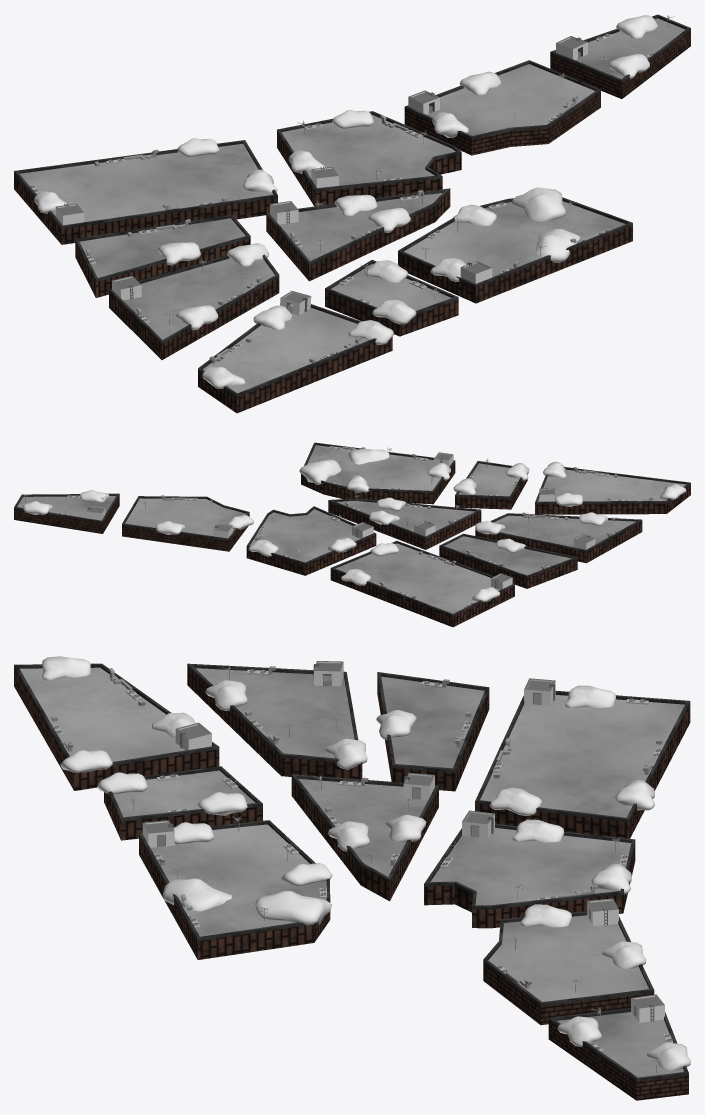
Rendered from Mapa1Arreglado.fbx.
The picture shows the model from 3 angles, top to bottom: view 1: azimuth 30°, elevation 25°; view 2: azimuth 150°, elevation 25°; view 3: azimuth 270°, elevation 25°; orthographic projection. The views are drawn at different scales.
Parts seen in each view (by area): view 1: Edificios.007, Edificios.001, Edificios.008, Caseta.005, Edificios.004, Edificios.005, Edificios.002, Edificios.006, Caseta.008, Edificios.003, Mball.013, Mball.001 (+17 smaller); view 2: Edificios.007, Edificios.001, Edificios.008, Edificios.004, Caseta.005, Edificios.005, Edificios.002, Edificios.006, Caseta.008, Edificios.003, Mball.013, Mball.001 (+11 smaller); view 3: Edificios.007, Edificios.001, Edificios.008, Edificios.004, Caseta.005, Edificios.005, Edificios.002, Edificios.006, Caseta.008, Edificios.003, Mball.013, Mball.001 (+20 smaller).
Boxes of the visible parts, <box> form: Edificios.007: <box>14,140,277,244</box>; Edificios.001: <box>398,197,632,303</box>; Edificios.008: <box>277,111,461,206</box>; Caseta.005: <box>404,60,600,155</box>; Edificios.004: <box>198,291,392,413</box>; Edificios.005: <box>109,254,279,359</box>; Edificios.002: <box>266,188,450,281</box>; Edificios.006: <box>75,214,250,297</box>; Caseta.008: <box>550,14,690,98</box>; Edificios.003: <box>325,260,458,336</box>; Mball.013: <box>512,187,565,221</box>; Mball.001: <box>535,229,580,262</box>; Edificios.007: <box>330,541,514,627</box>; Edificios.001: <box>301,442,455,504</box>; Edificios.008: <box>246,506,376,575</box>; Edificios.004: <box>535,467,690,514</box>; Caseta.005: <box>122,495,249,551</box>; Edificios.005: <box>475,512,642,563</box>; Edificios.002: <box>328,495,481,549</box>; Edificios.006: <box>439,533,577,588</box>; Caseta.008: <box>14,493,119,533</box>; Edificios.003: <box>455,458,527,509</box>; Mball.013: <box>299,459,341,484</box>; Mball.001: <box>348,448,389,464</box>; Edificios.007: <box>475,678,690,838</box>; Edificios.001: <box>139,820,330,959</box>; Edificios.008: <box>424,810,635,928</box>; Edificios.004: <box>14,663,219,790</box>; Caseta.005: <box>483,898,654,1025</box>; Edificios.005: <box>187,661,362,779</box>; Edificios.002: <box>291,772,438,901</box>; Edificios.006: <box>377,672,489,791</box>; Caseta.008: <box>548,994,688,1100</box>; Edificios.003: <box>104,766,262,840</box>; Mball.013: <box>255,891,331,925</box>; Mball.001: <box>163,878,231,911</box>.
Bounding box in the file's own units: 13560 × 561 × 9262.
13 materials, 3 textured.
